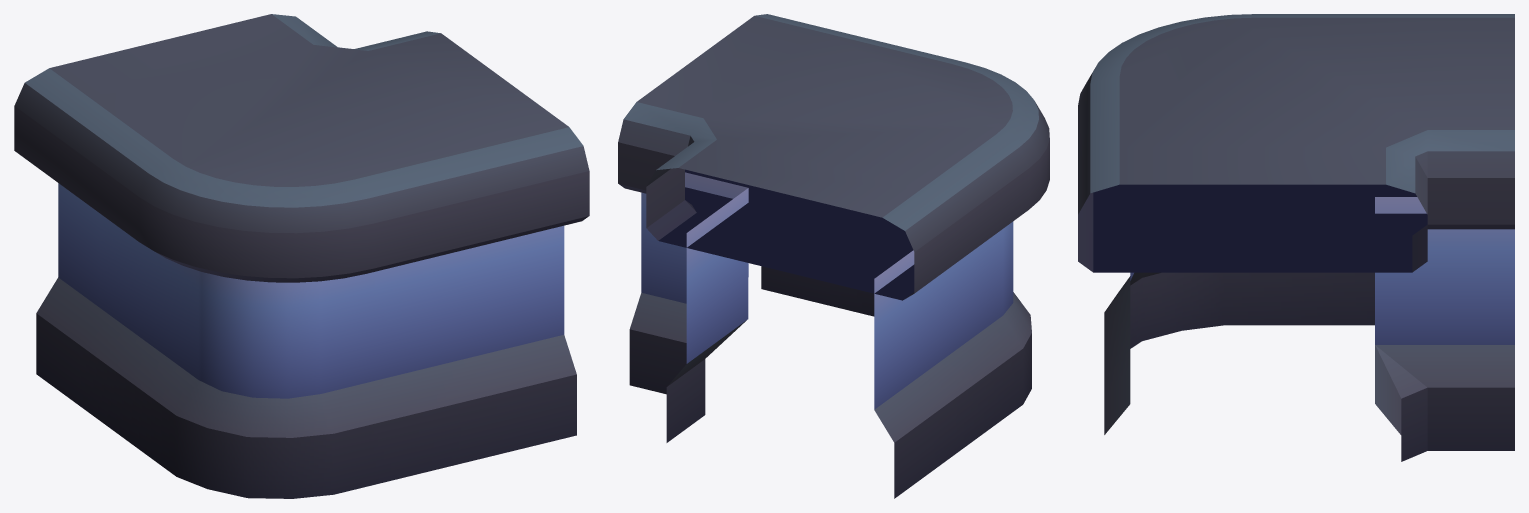
File: bar_corner.fbx
The picture shows the model from 3 angles, left to right: view 1: azimuth 30°, elevation 25°; view 2: azimuth 150°, elevation 25°; view 3: azimuth 270°, elevation 25°; orthographic projection. The views are drawn at different scales.
Parts seen in each view (by area): view 1: bar_corner; view 2: bar_corner; view 3: bar_corner.
Boxes of the visible parts, left/top/right/bottom form: bar_corner: left=14, top=14, right=589, bottom=498; bar_corner: left=618, top=14, right=1049, bottom=498; bar_corner: left=1078, top=14, right=1514, bottom=461.
Size of the model in its own units: 91.85 by 72.93 by 91.85.
